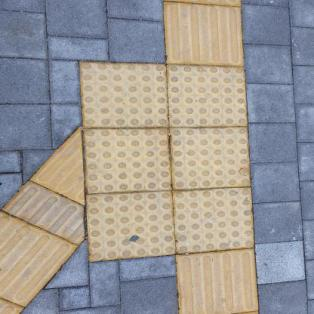Podoctatil: (78, 0, 265, 313), (0, 117, 90, 313)
